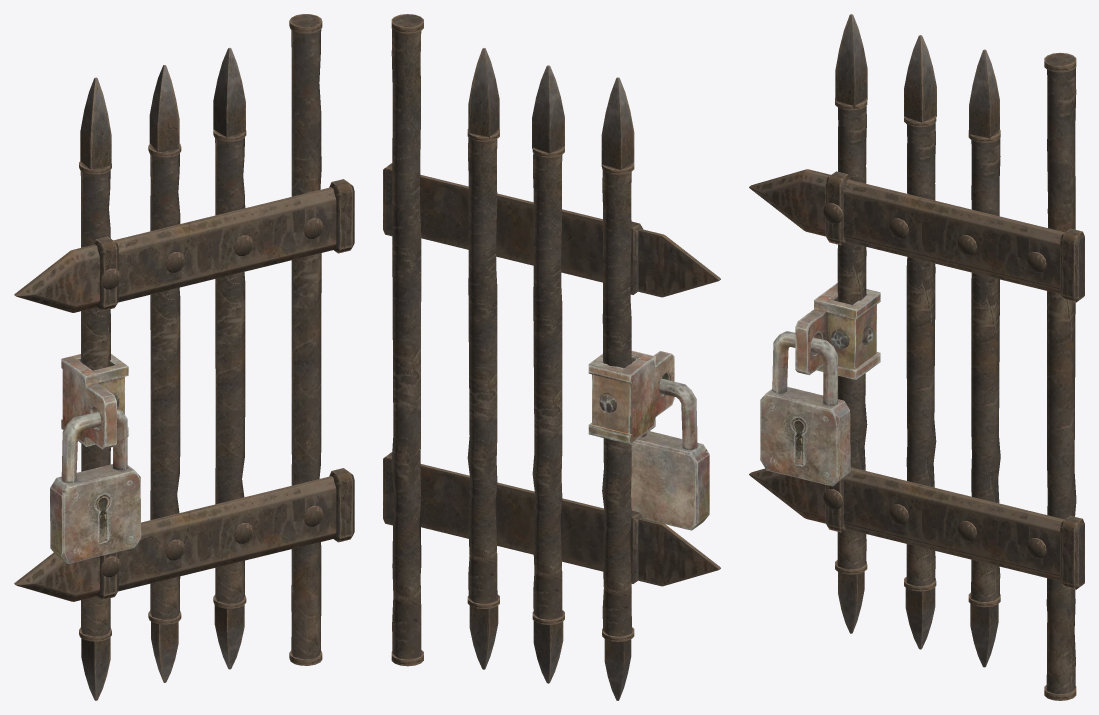
3 views of the same model, side by side, from view 1: azimuth 30°, elevation 25°; view 2: azimuth 150°, elevation 25°; view 3: azimuth 330°, elevation 25° (orthographic).
Parts seen in each view (by area): view 1: SM_DR_Cage_Door_01_LOD0; view 2: SM_DR_Cage_Door_01_LOD0; view 3: SM_DR_Cage_Door_01_LOD0.
Part boxes in pixels (x1,y1,x2,y2): SM_DR_Cage_Door_01_LOD0: [14, 14, 354, 700]; SM_DR_Cage_Door_01_LOD0: [383, 14, 720, 700]; SM_DR_Cage_Door_01_LOD0: [749, 14, 1084, 700].
Size of the model in its own units: 1.14 by 2.08 by 0.2627.
Materials: 2 (2 with a texture image).
